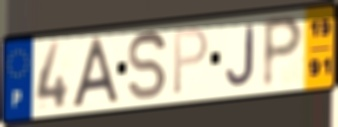4: (33, 39, 73, 112)
A: (69, 34, 122, 110)
J: (224, 23, 257, 87)
P: (261, 13, 306, 91), (171, 25, 210, 98)
S: (126, 29, 169, 103)
